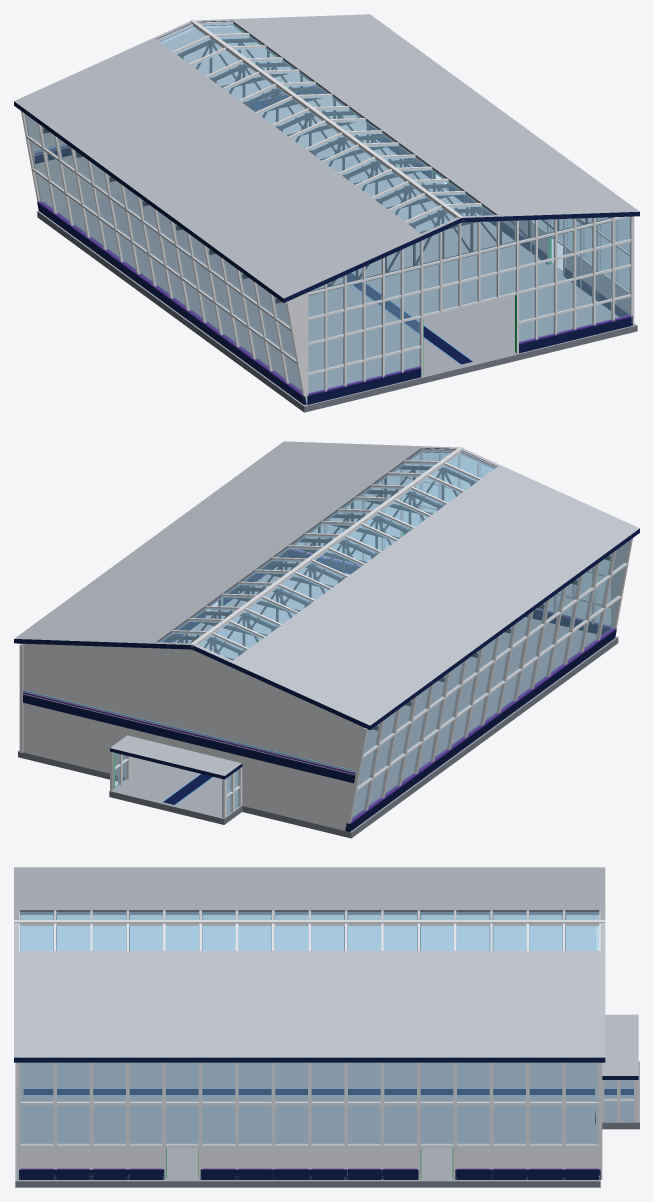
File: LLASO_Facility.obj
3 views of the same model, one above another, from view 1: azimuth 30°, elevation 25°; view 2: azimuth 150°, elevation 25°; view 3: azimuth 270°, elevation 25° (orthographic). The views are drawn at different scales.
Parts seen in each view (by area): view 1: LLASO_Facility; view 2: LLASO_Facility; view 3: LLASO_Facility.
Part boxes in pixels (x1=…): LLASO_Facility: x1=14, y1=14, x2=639, y2=412; LLASO_Facility: x1=14, y1=441, x2=639, y2=838; LLASO_Facility: x1=14, y1=867, x2=639, y2=1187.
Bounding box in the file's own units: 37.2 × 15.7 × 51.65.
